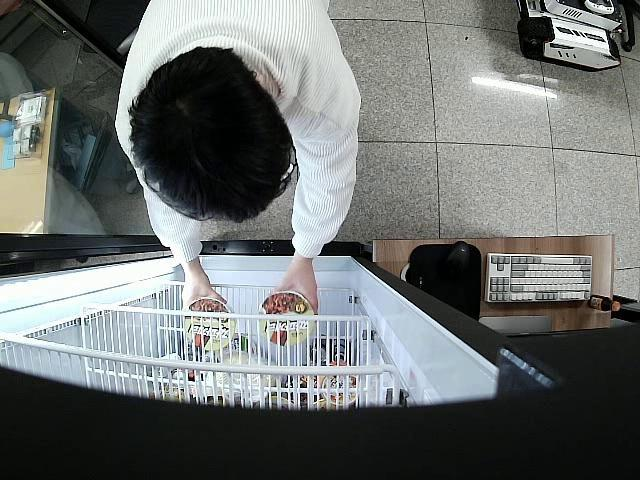03_chapagetti_L: (258, 292, 317, 347), (182, 298, 235, 350)
